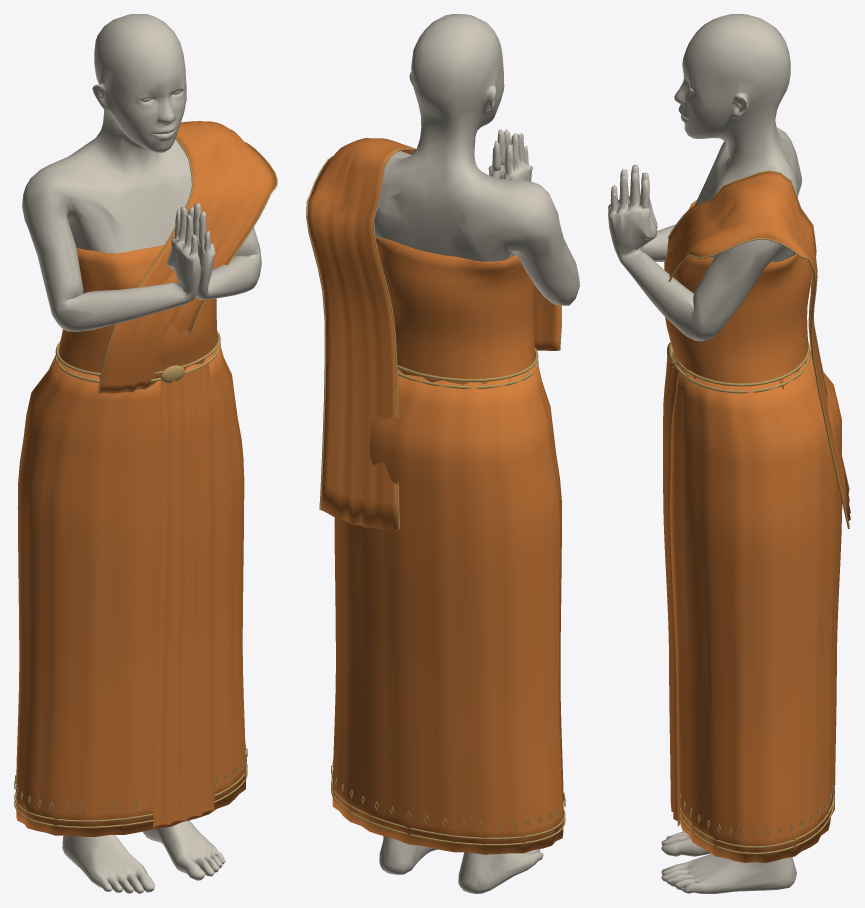
Rendered from fashion-day-v2-normal.glb.
3 views of the same model, side by side, from view 1: azimuth 30°, elevation 25°; view 2: azimuth 150°, elevation 25°; view 3: azimuth 270°, elevation 25° (orthographic).
Parts seen in each view (by area): view 1: day-fabric, mannequin-ivory, antique-gold; view 2: day-fabric, mannequin-ivory, antique-gold; view 3: day-fabric, mannequin-ivory, antique-gold.
Boxes of the visible parts, box(x1,y1,x2,y2) form: day-fabric: box(16, 121, 276, 836); mannequin-ivory: box(22, 14, 261, 893); antique-gold: box(14, 137, 277, 828); day-fabric: box(307, 138, 563, 854); mannequin-ivory: box(374, 14, 579, 893); antique-gold: box(306, 148, 565, 845); day-fabric: box(663, 171, 850, 862); mannequin-ivory: box(608, 14, 801, 893); antique-gold: box(664, 170, 849, 854).
Bounding box in the file's own units: 0.5065 × 1.75 × 0.453.
